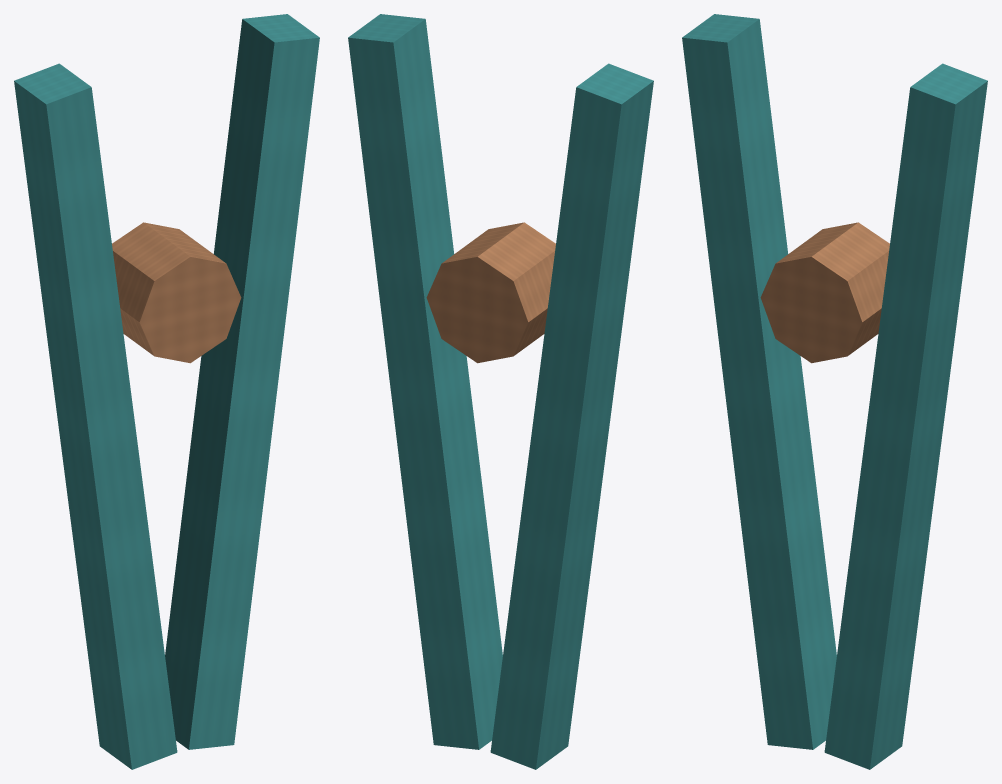
File: atlas100-s093-a05.glb
3 renders of one model, left to right at view 1: azimuth 30°, elevation 25°; view 2: azimuth 150°, elevation 25°; view 3: azimuth 330°, elevation 25°, orthographic.
Parts seen in each view (by area): view 1: atlas100-s093-a05:part-001, atlas100-s093-a05:part-000, atlas100-s093-a05:part-002; view 2: atlas100-s093-a05:part-001, atlas100-s093-a05:part-000, atlas100-s093-a05:part-002; view 3: atlas100-s093-a05:part-000, atlas100-s093-a05:part-001, atlas100-s093-a05:part-002.
Part boxes in pixels (x1,y1,x2,y2): atlas100-s093-a05:part-001: (165,14,319,749); atlas100-s093-a05:part-000: (14,63,177,769); atlas100-s093-a05:part-002: (112,222,241,363); atlas100-s093-a05:part-001: (348,14,502,749); atlas100-s093-a05:part-000: (490,63,653,769); atlas100-s093-a05:part-002: (426,222,555,363); atlas100-s093-a05:part-000: (682,14,836,749); atlas100-s093-a05:part-001: (824,63,987,769); atlas100-s093-a05:part-002: (760,222,889,363).
Size of the model in its own units: 0.2936 by 0.7102 by 0.0874.
Materials: 2 (2 with a texture image).
